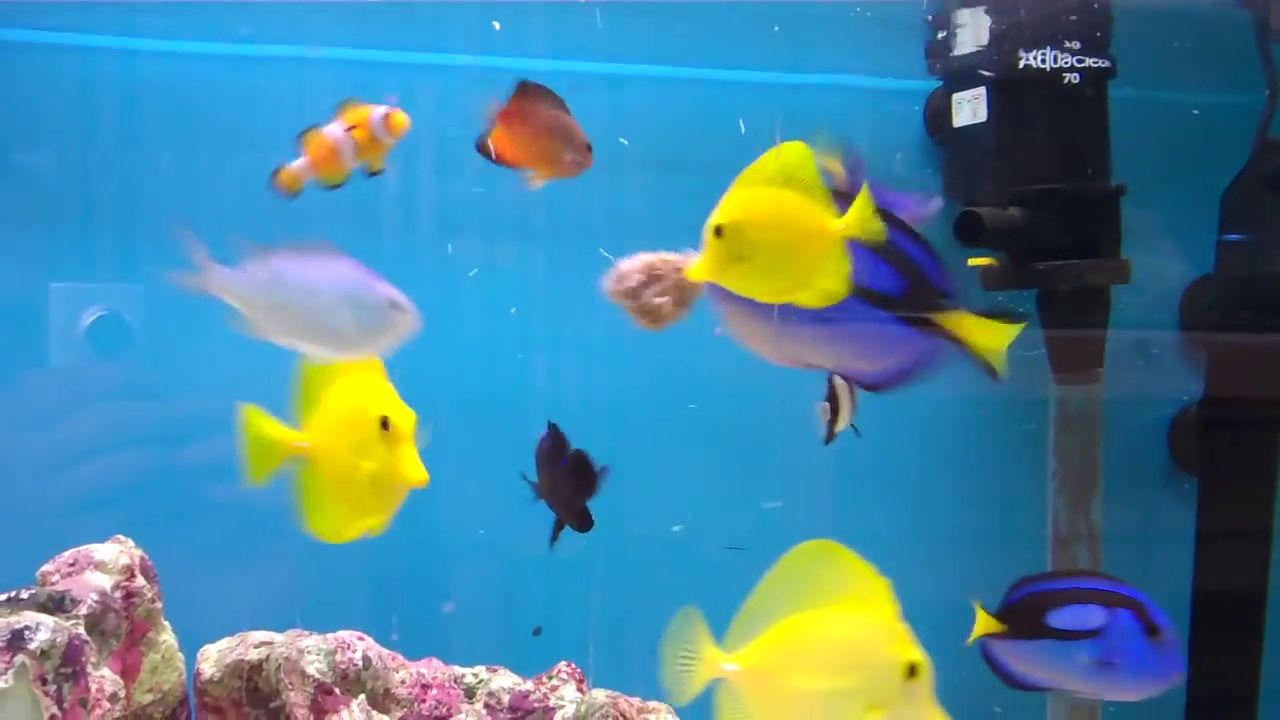blue tang surgeonfish: (971, 577, 1219, 700)
saddle butterfly fish: (642, 485, 975, 720), (217, 308, 446, 563), (671, 124, 883, 327)
